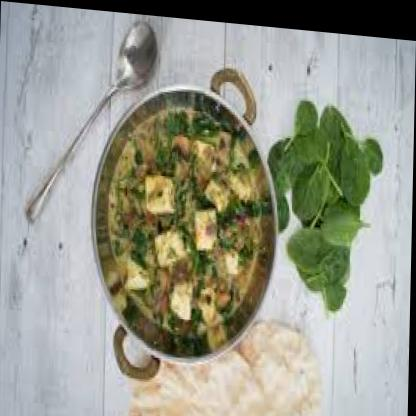palak_paneer: (105, 98, 262, 335)
